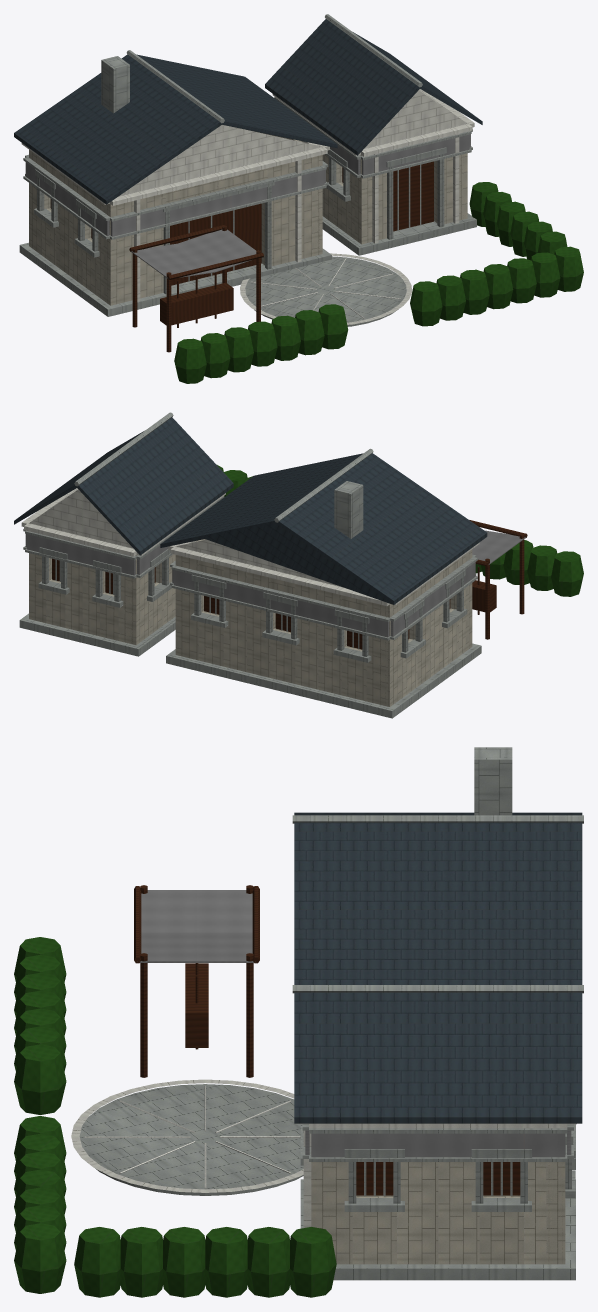
Rendered from crop_rotation_farm.glb.
The picture shows the model from 3 angles, top to bottom: view 1: azimuth 30°, elevation 25°; view 2: azimuth 150°, elevation 25°; view 3: azimuth 270°, elevation 25°; orthographic projection. The views are drawn at different scales.
Parts seen in each view (by area): view 1: LOD0; view 2: LOD0; view 3: LOD0.
Boxes of the visible parts, <box> form: LOD0: <box>14,14,583,383</box>; LOD0: <box>14,412,583,718</box>; LOD0: <box>14,747,583,1297</box>.
Size of what is drawn, in the model's own units: 1.74 by 0.78 by 1.35.
Materials: 2 (2 with a texture image).
